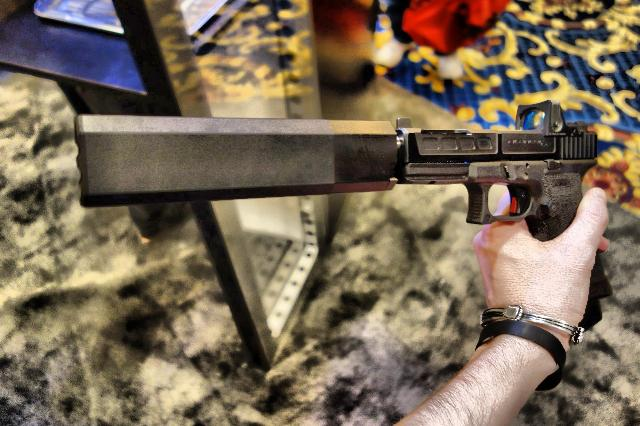pistol: (397, 101, 613, 337)
